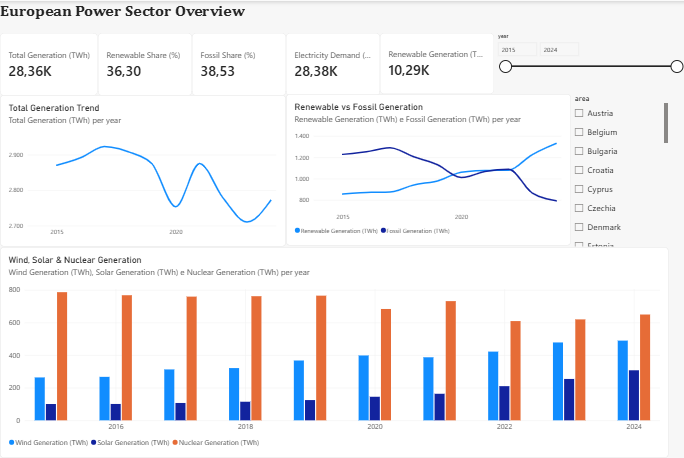

What the dashboard file says about the page in this screenshot:
{"tool":"powerbi","page":{"name":"Overview","canvas":[1920,1080],"ordinal":0},"visuals":[{"type":"textbox","box":[0,0,553.3,63.3],"z":0},{"type":"cardVisual","fields":{"Data":["_Measures.Total Generation (TWh)"]},"box":[0,63.3,195,125],"z":1000},{"type":"cardVisual","fields":{"Data":["_Measures.Renewable Share (%)"]},"box":[195,63.3,188.3,125],"z":2000},{"type":"cardVisual","fields":{"Data":["_Measures.Fossil Share (%)"]},"box":[383.3,63.3,188.3,125],"z":3000},{"type":"cardVisual","fields":{"Data":["_Measures.Electricity Demand (TWh)"]},"box":[571.7,63.3,188.3,125],"z":4000},{"type":"slicer","fields":{"Values":["Dim Area.area"]},"box":[1141.9,185.9,193.9,305.4],"z":5000},{"type":"slicer","fields":{"Values":["Dim Year.year"]},"box":[987.9,63.7,382.4,122.2],"z":6000},{"type":"lineChart","title":"Total Generation Trend","fields":{"Category":["Dim Year.year"],"Y":["_Measures.Total Generation (TWh)"]},"box":[0,188.3,571.7,303.3],"z":7000},{"type":"lineChart","title":"Renewable vs Fossil Generation","fields":{"Category":["Dim Year.year"],"Y":["_Measures.Renewable Generation (TWh)","_Measures.Fossil Generation (TWh)"]},"box":[571.7,186.7,570,303.3],"z":8000},{"type":"clusteredColumnChart","title":"Wind, Solar & Nuclear Generation","fields":{"Category":["Dim Year.year"],"Y":["_Measures.Wind Generation (TWh)","_Measures.Solar Generation (TWh)","_Measures.Nuclear Generation (TWh)"]},"box":[0,491.7,1336.7,421.7],"z":9000},{"type":"cardVisual","fields":{"Data":["_Measures.Renewable Generation (TWh)"]},"box":[759.5,63.7,228.4,122.2],"z":9001}]}

Visuals, with their boxes on the page's 1920x1080 design canvas (x1, y1, x2, y2). These are canvas units, not pixel positions in the 684x458 screenshot, which may show the page scaled, cropped or inside an application window:
textbox: (left=0, top=0, right=553, bottom=63)
cardVisual - _Measures.Total Generation (TWh): (left=0, top=63, right=195, bottom=188)
cardVisual - _Measures.Renewable Share (%): (left=195, top=63, right=383, bottom=188)
cardVisual - _Measures.Fossil Share (%): (left=383, top=63, right=572, bottom=188)
cardVisual - _Measures.Electricity Demand (TWh): (left=572, top=63, right=760, bottom=188)
slicer - Dim Area.area: (left=1142, top=186, right=1336, bottom=491)
slicer - Dim Year.year: (left=988, top=64, right=1370, bottom=186)
"Total Generation Trend" lineChart: (left=0, top=188, right=572, bottom=492)
"Renewable vs Fossil Generation" lineChart: (left=572, top=187, right=1142, bottom=490)
"Wind, Solar & Nuclear Generation" clusteredColumnChart: (left=0, top=492, right=1337, bottom=913)
cardVisual - _Measures.Renewable Generation (TWh): (left=760, top=64, right=988, bottom=186)
